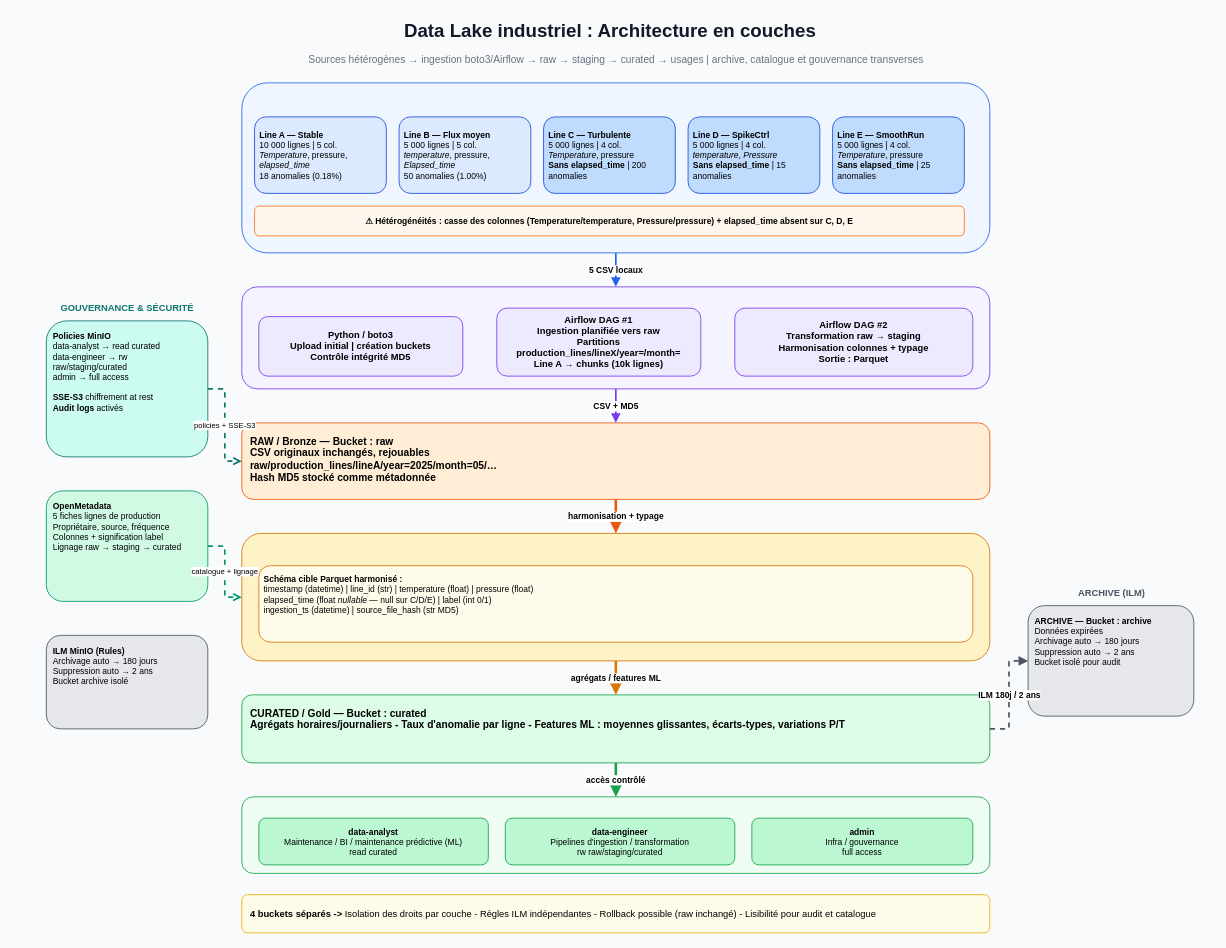
This 1226x948 diagram has some shape labels left out. The box of each missing label's shape, as (x1, y1, x2, y2) in pixels:
Ingestion & Orchestration: (241, 286, 990, 389)
Sources CSV — Zenodo (Polytechnic of Porto / INESC TEC): (241, 82, 990, 253)
STAGING / Silver — Bucket : staging: (241, 533, 990, 661)
Usages (accès contrôlé par rôle): (241, 796, 990, 873)
